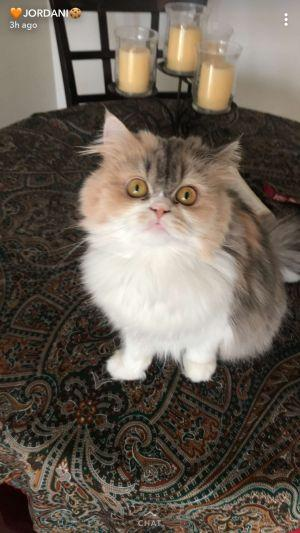persian: (76, 100, 250, 267)
